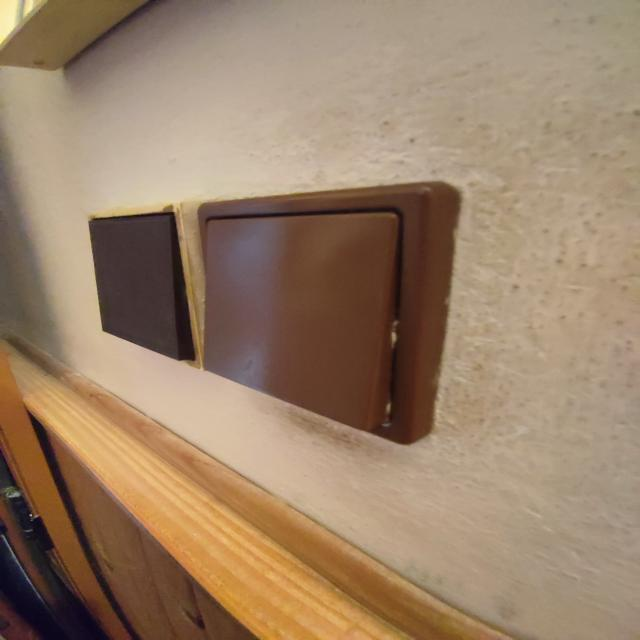house switch: (196, 181, 460, 445), (88, 200, 204, 365)
